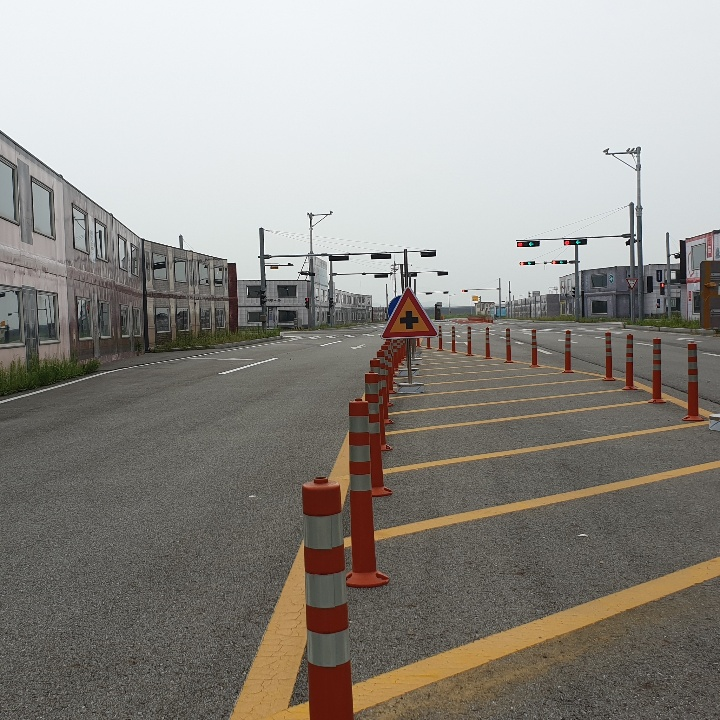inter: (397, 307, 424, 333)
